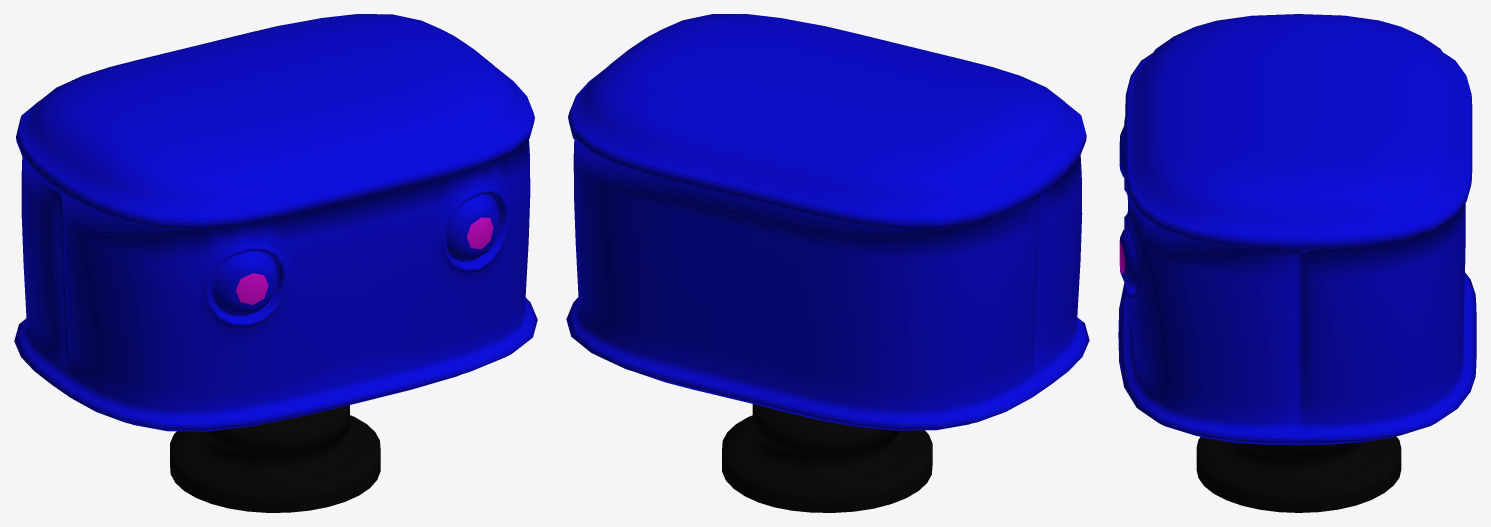
The model's file is SM_Robot_Head.FBX.
The picture shows the model from 3 angles, left to right: view 1: azimuth 30°, elevation 25°; view 2: azimuth 150°, elevation 25°; view 3: azimuth 270°, elevation 25°; orthographic projection. The views are drawn at different scales.
Visible parts, largest first — view 1: SM_Robot_Head; view 2: SM_Robot_Head; view 3: SM_Robot_Head.
Part boxes in pixels (x1,y1,x2,y2): SM_Robot_Head: (14,14,537,512); SM_Robot_Head: (566,14,1089,512); SM_Robot_Head: (1118,14,1476,512).
Size of the model in its own units: 135 by 111 by 96.55.
